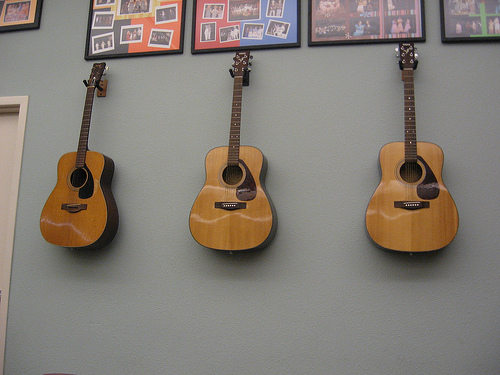guitar: (364, 41, 460, 257), (189, 49, 277, 255), (39, 61, 122, 253)
